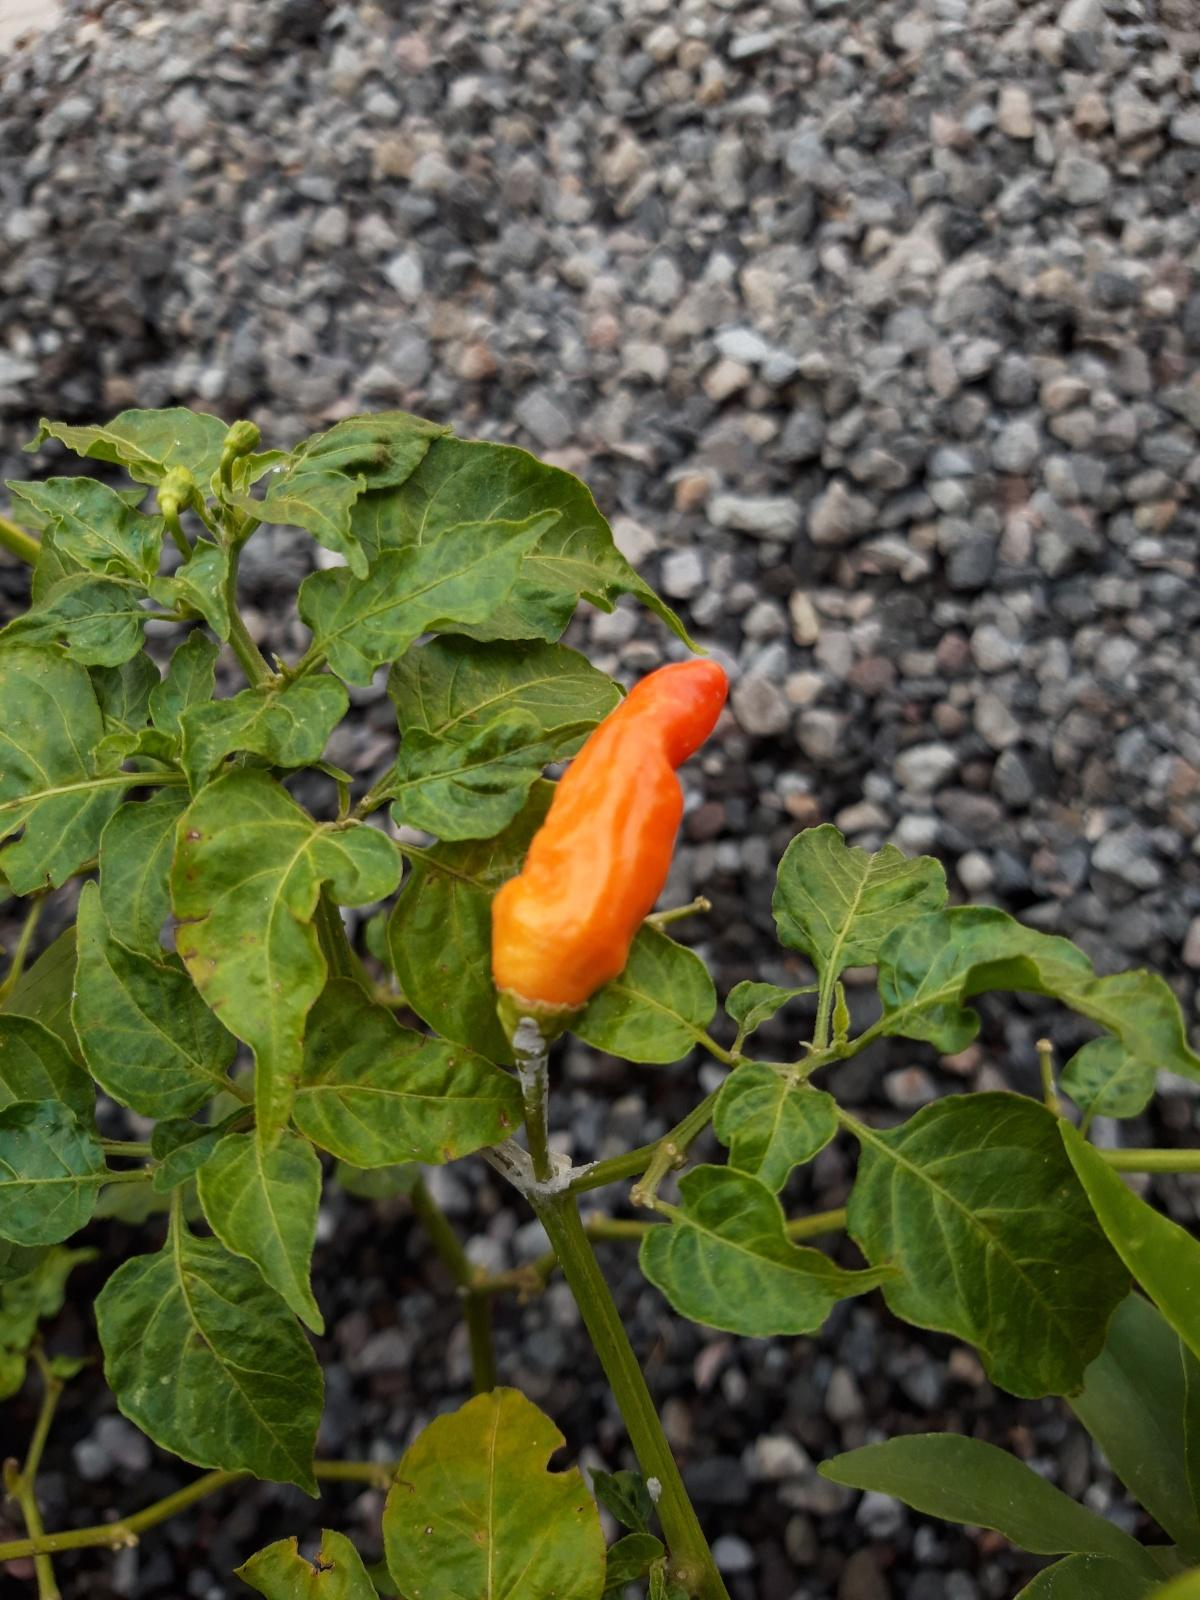cabai_normal: (492, 658, 730, 1007)
